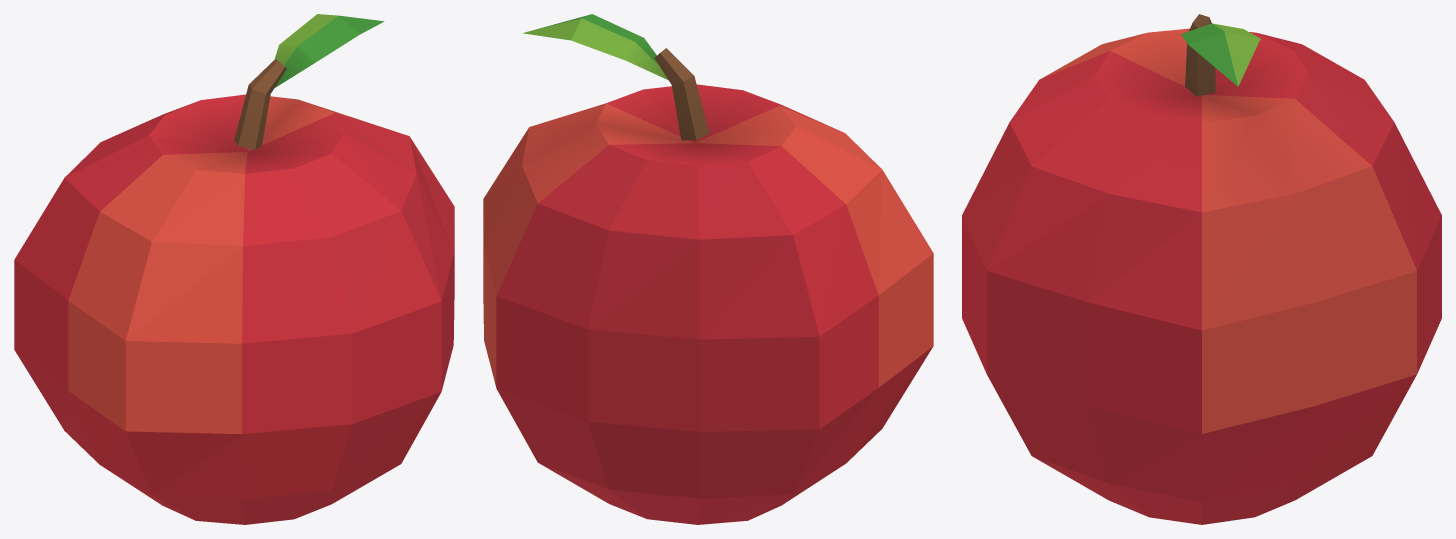
File: Apple_produce.glb
3 views of the same model, side by side, from view 1: azimuth 30°, elevation 25°; view 2: azimuth 150°, elevation 25°; view 3: azimuth 270°, elevation 25° (orthographic). The views are drawn at different scales.
Visible parts, largest first — view 1: Apple_produce; view 2: Apple_produce; view 3: Apple_produce.
Boxes of the visible parts, x1,y1,x2,y2 form: Apple_produce: (14, 14, 454, 524); Apple_produce: (483, 14, 933, 524); Apple_produce: (962, 14, 1441, 524).
Size of the model in its own units: 0.8969 by 1.02 by 0.8431.
